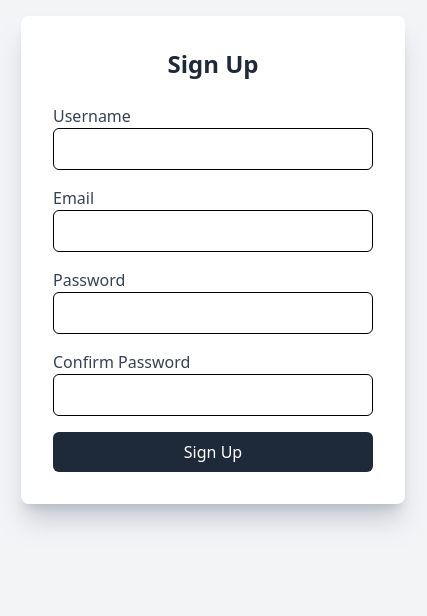
Test: Register component › should show error when passwords do not match
Type "12345" into the password field labelled "Password".
click(213, 313); type("12345")  # box 53,292 -> 373,334
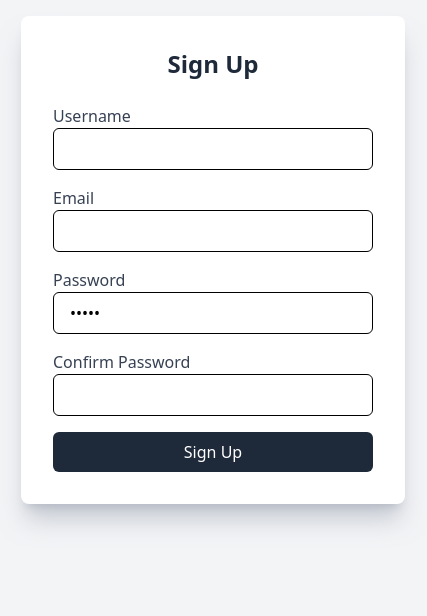
Type "54321" into the password field labelled "Confirm Password".
click(213, 395); type("54321")  # box 53,374 -> 373,416
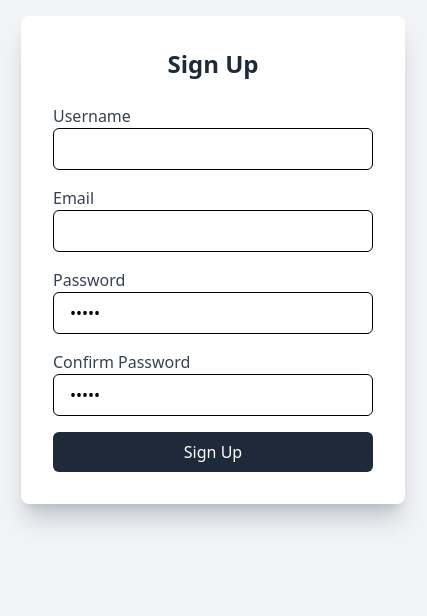
Click the button "Sign Up".
click(213, 452)  # box 53,432 -> 373,472
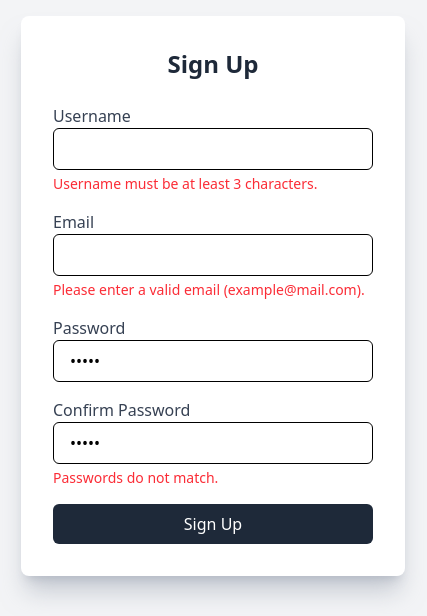
expect the text "Passwords do not match." is shown: met, box 53,468 -> 218,487
